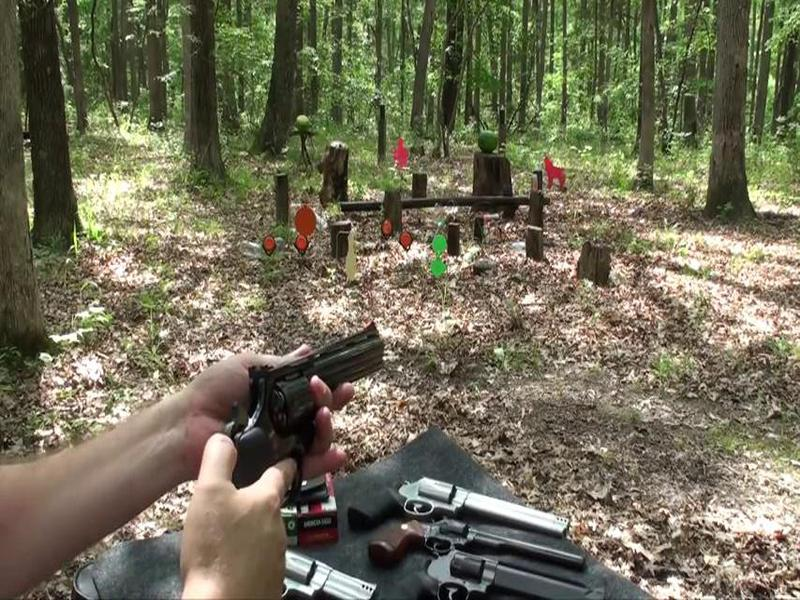Revolver: (207, 304, 407, 534)
